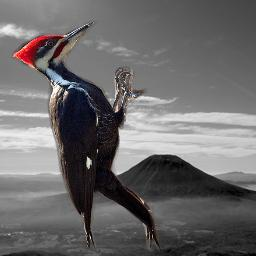Woodpecker: (11, 20, 162, 252)
